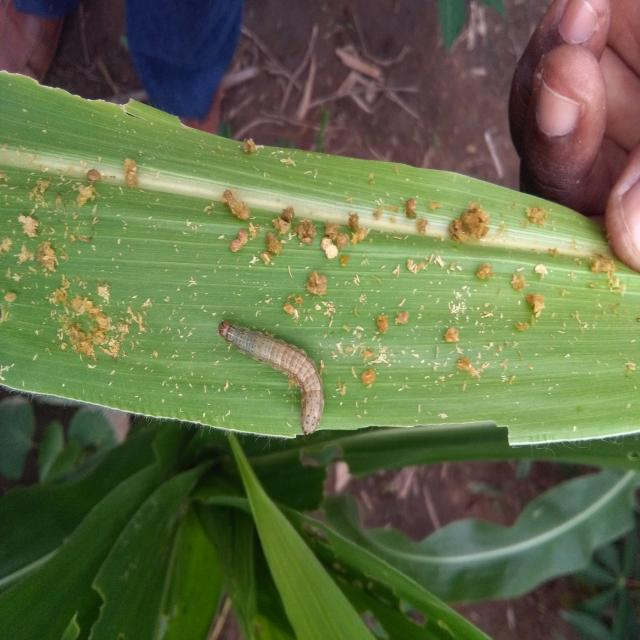yellow-stem-borer-larva: (200, 298, 335, 433)
